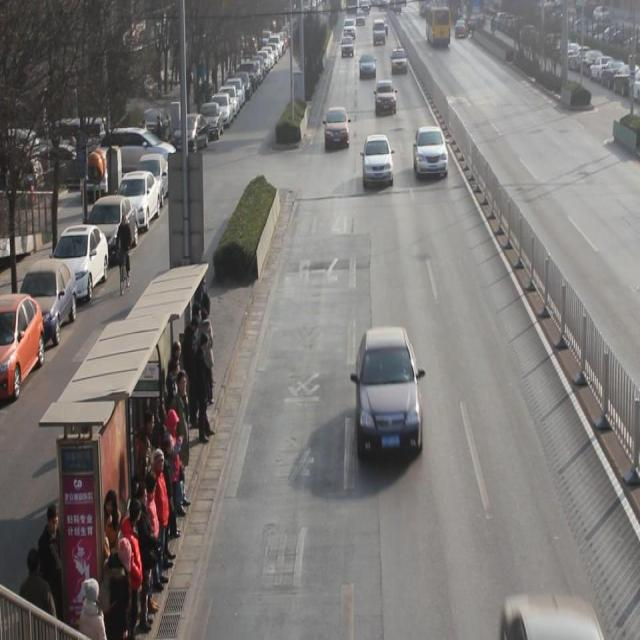car: (355, 326, 424, 463), (414, 126, 449, 180), (362, 134, 395, 190), (324, 106, 349, 151), (375, 80, 397, 118), (359, 52, 377, 82), (391, 48, 408, 78)
